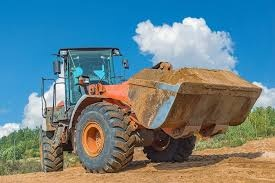machinery: (42, 35, 268, 175)
